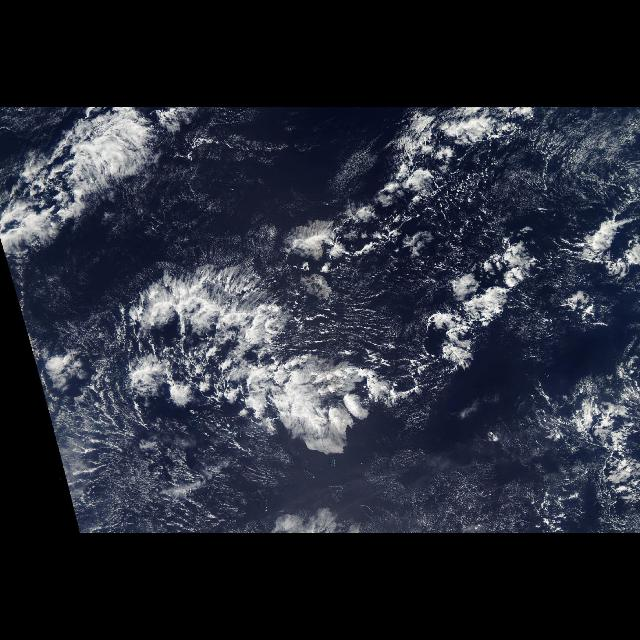Sugar: (540, 112, 638, 214), (107, 432, 277, 478)
